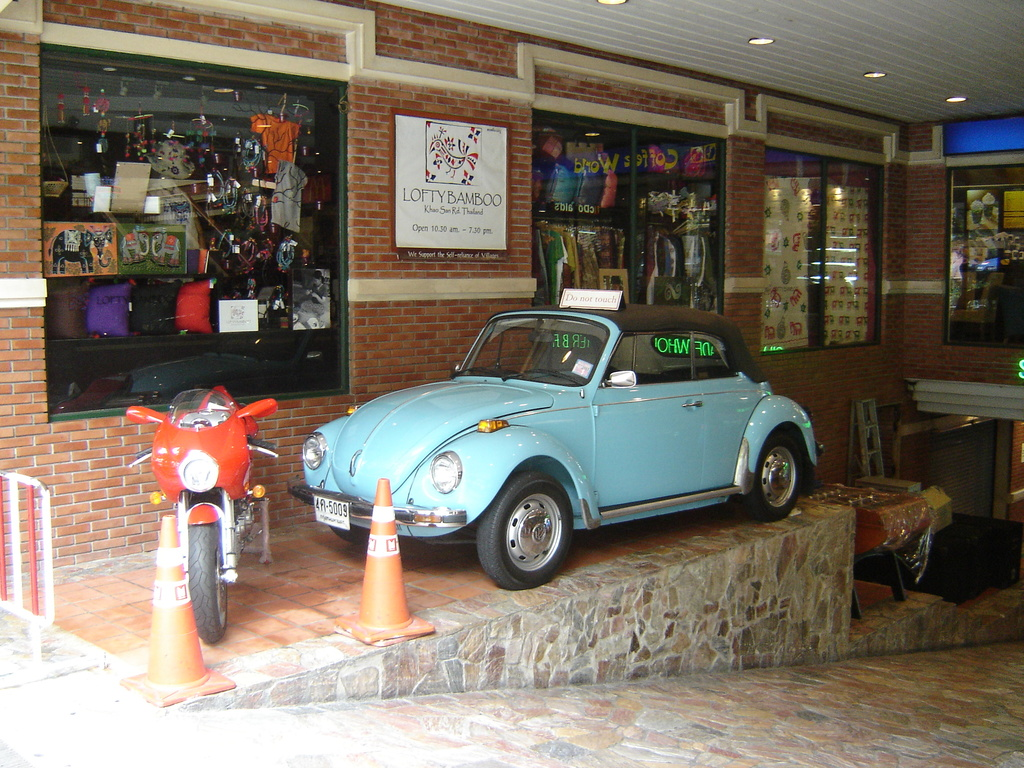Car: (286, 291, 820, 591)
